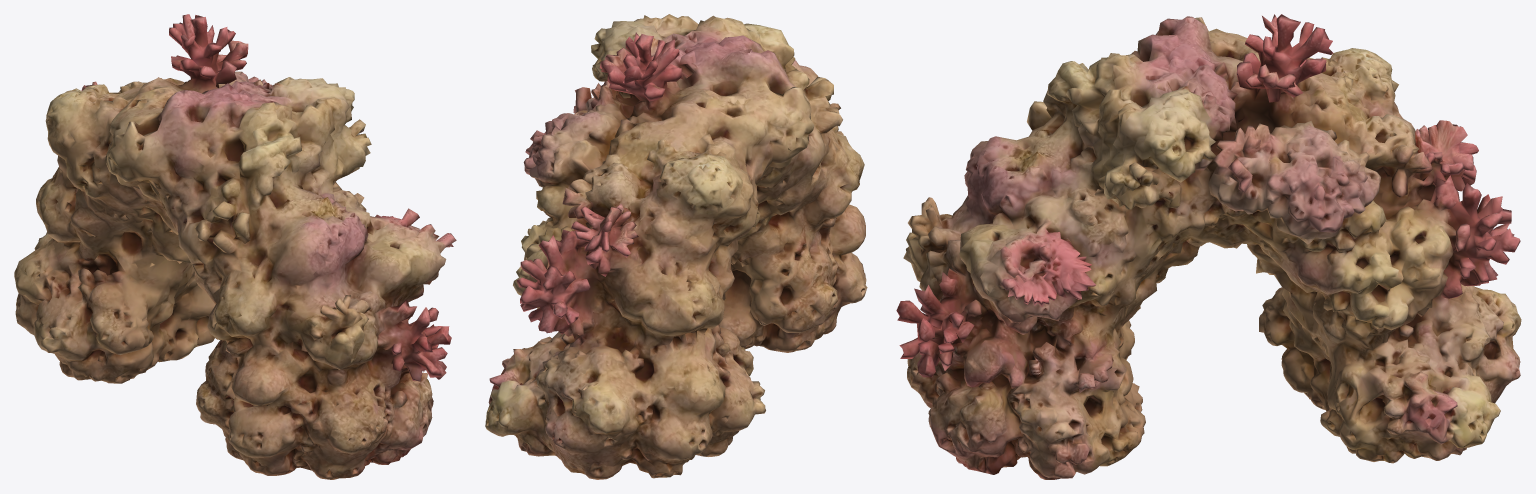
Rendered from rock_d.glb.
3 renders of one model, left to right at view 1: azimuth 30°, elevation 25°; view 2: azimuth 150°, elevation 25°; view 3: azimuth 270°, elevation 25°, orthographic. The views are drawn at different scales.
Parts seen in each view (by area): view 1: tripo_node_8fb96601-04d8-4049-b5b3-104aad1d4c62; view 2: tripo_node_8fb96601-04d8-4049-b5b3-104aad1d4c62; view 3: tripo_node_8fb96601-04d8-4049-b5b3-104aad1d4c62.
Part boxes in pixels (bbox=[...]): tripo_node_8fb96601-04d8-4049-b5b3-104aad1d4c62: bbox=[14, 14, 456, 479]; tripo_node_8fb96601-04d8-4049-b5b3-104aad1d4c62: bbox=[485, 14, 867, 479]; tripo_node_8fb96601-04d8-4049-b5b3-104aad1d4c62: bbox=[896, 14, 1521, 479].
Size of the model in its own units: 0.5854 by 0.7291 by 1.
1 material, 1 textured.
